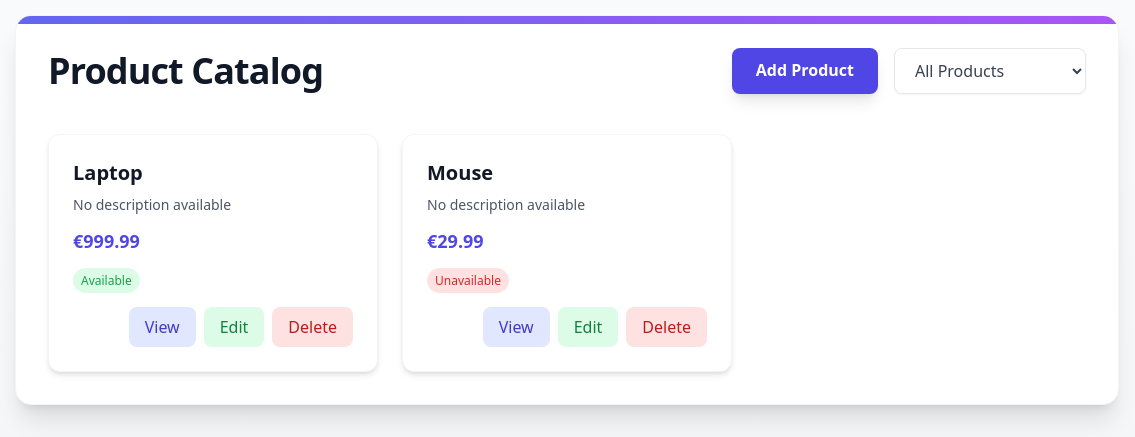
ProductList › filters available products
expect the heading "Laptop" is shown: met, box [73, 159, 143, 186]
Select "Available" in the dropdown at point(990, 71), box [894, 48, 1086, 94]
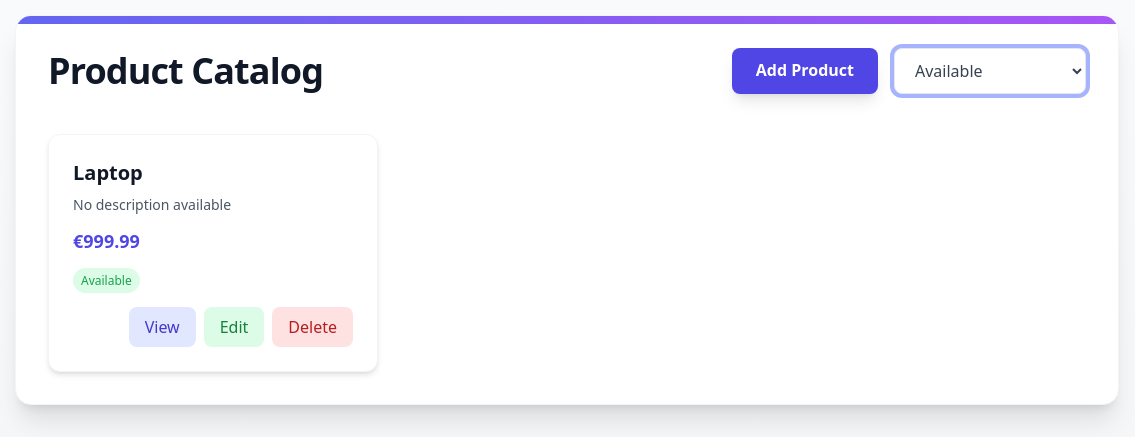
expect the heading "Laptop" is shown: met, box [73, 159, 143, 186]
expect the heading "Mouse" is gone: met
